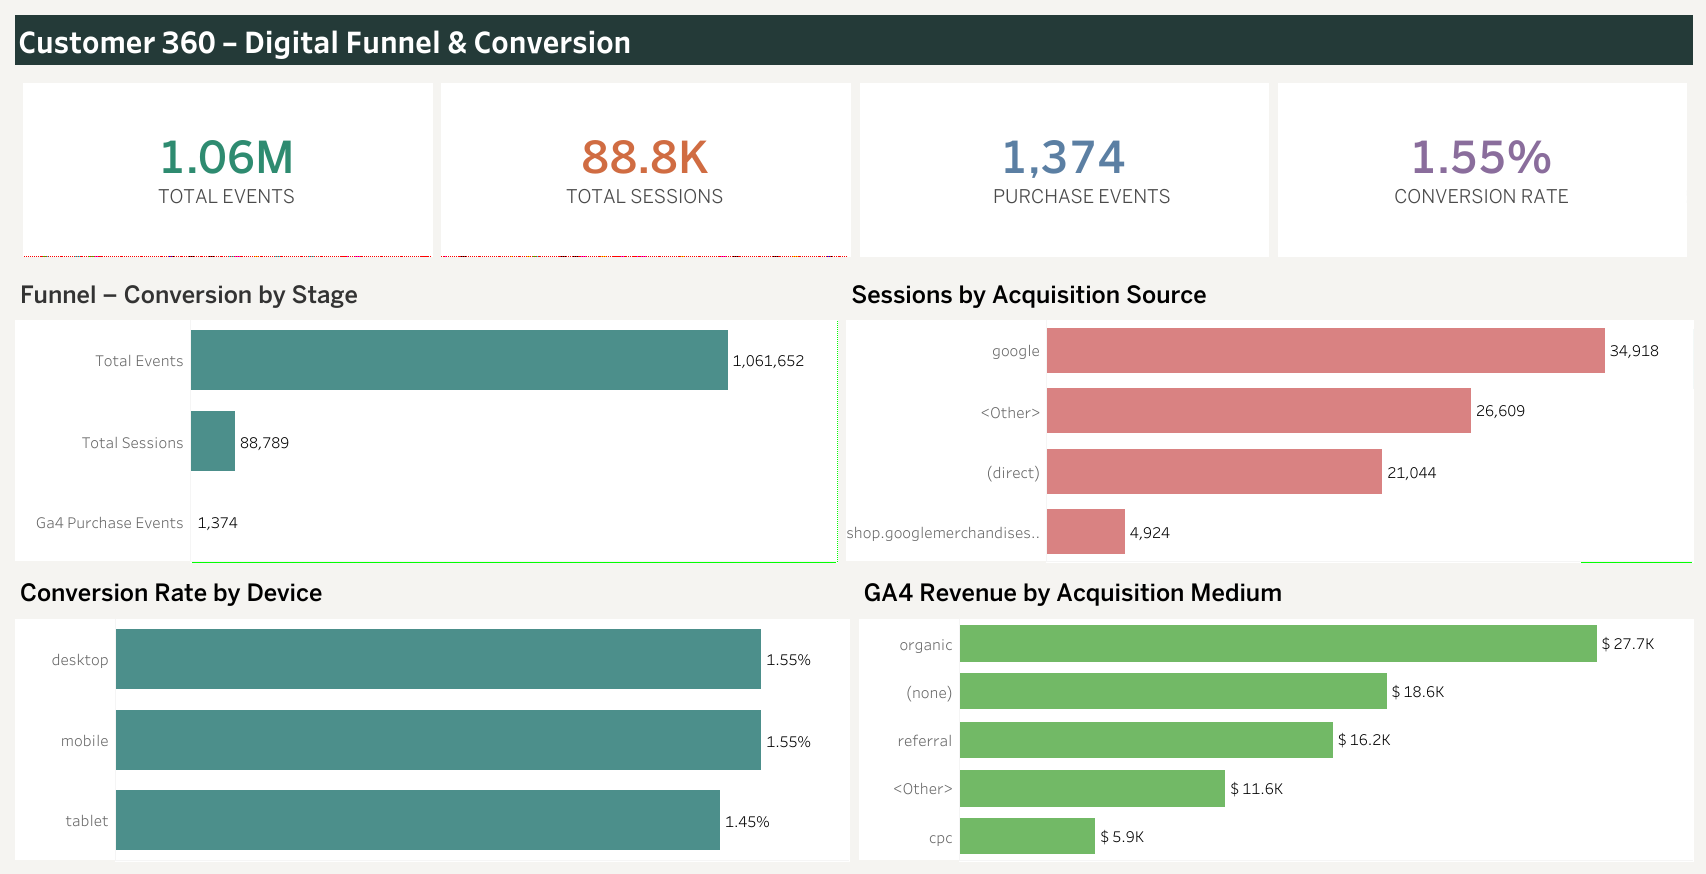

What the dashboard file says about the page in this screenshot:
{"tool":"tableau","page":{"name":"Digital Funnel & Conversion","canvas":[1366,700],"ordinal":1},"visuals":[{"type":"text","box":[8,8,1350,48]},{"type":"worksheet","title":"KPI – Total Events","mark":"Automatic","box":[14,62,335,146]},{"type":"worksheet","title":"KPI – Total Sessions","mark":"Automatic","box":[349,62,335,146]},{"type":"worksheet","title":"Purchase Events KPI","mark":"Automatic","box":[684,62,334,146]},{"type":"worksheet","title":"KPI – Conversion Rate","mark":"Automatic","box":[1018,62,334,146]},{"type":"worksheet","title":"Funnel – Conversion by Stage","mark":"Automatic","box":[8,214,675,239]},{"type":"worksheet","title":"Bar -Sessions by Acquisition Source","mark":"Bar","rows":["acquisition_source"],"cols":["total_sessions"],"box":[683,214,675,239]},{"type":"worksheet","title":"Bar – Conversion Rate by Device","mark":"Bar","rows":["initial_device"],"cols":["Calculation_791507677818175488"],"box":[8,453,675,239]},{"type":"worksheet","title":"Bar – GA4 Revenue by Acquisition Medium","mark":"Automatic","rows":["acquisition_medium"],"cols":["ga4_purchase_revenue_usd"],"box":[683,453,675,239]}]}

Visuals, with their boxes in screenshot pixels (x1, y1, x2, y2), scaled from the page's 1366x700 canvas onto the 1706x874 screenshot:
text: bbox=(10, 10, 1696, 70)
"KPI – Total Events" worksheet: bbox=(17, 77, 436, 260)
"KPI – Total Sessions" worksheet: bbox=(436, 77, 854, 260)
"Purchase Events KPI" worksheet: bbox=(854, 77, 1271, 260)
"KPI – Conversion Rate" worksheet: bbox=(1271, 77, 1689, 260)
"Funnel – Conversion by Stage" worksheet: bbox=(10, 267, 853, 566)
"Bar -Sessions by Acquisition Source" worksheet (Bar marks): bbox=(853, 267, 1696, 566)
"Bar – Conversion Rate by Device" worksheet (Bar marks): bbox=(10, 566, 853, 864)
"Bar – GA4 Revenue by Acquisition Medium" worksheet: bbox=(853, 566, 1696, 864)
